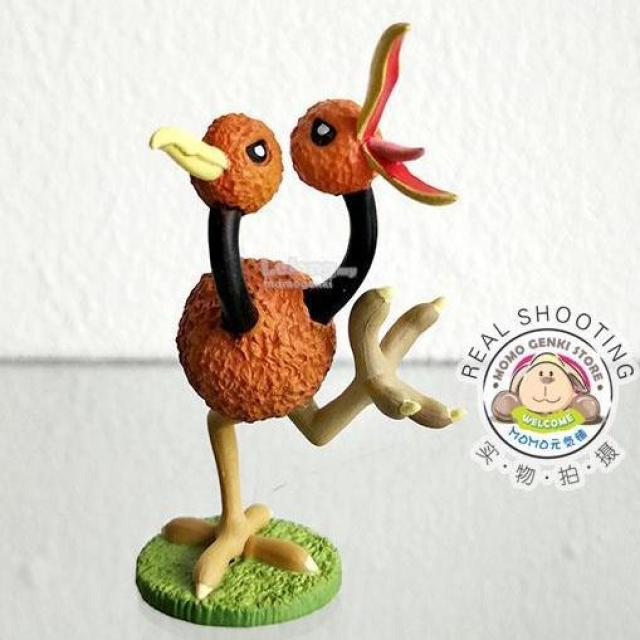Doduo: (150, 34, 448, 578)
